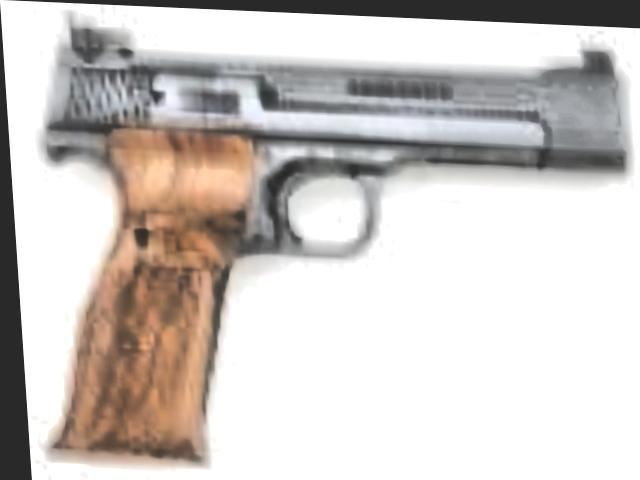pistol: (29, 13, 640, 480)
